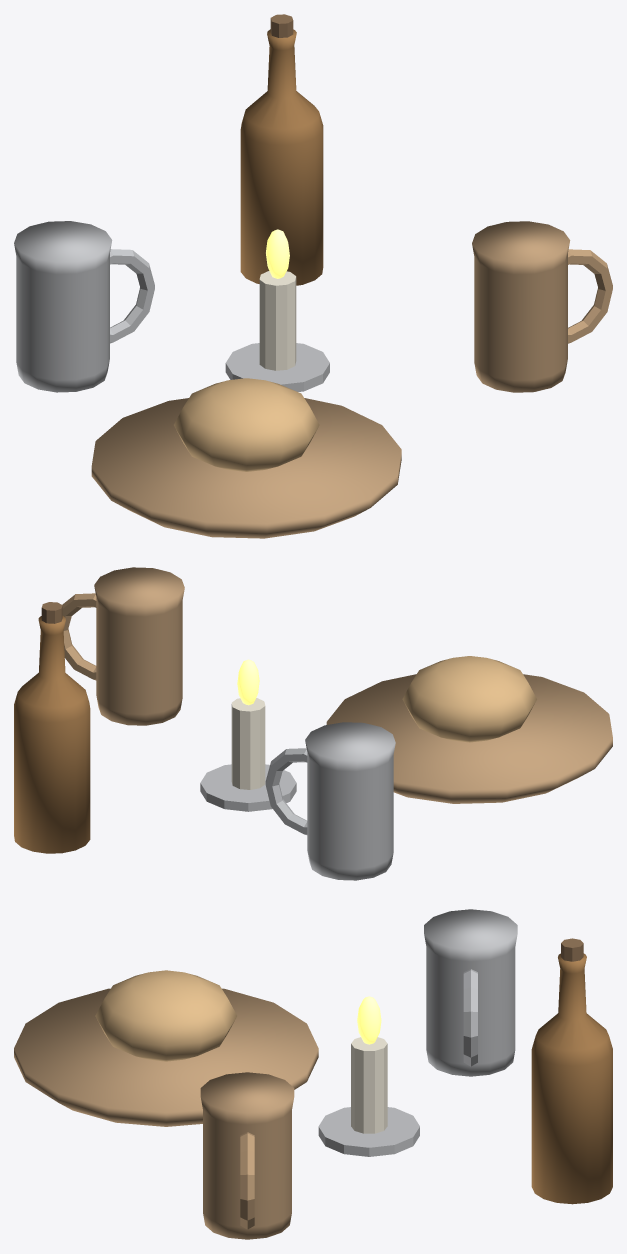
The model's file is tavern_tabletop.glb.
3 views of the same model, one above another, from view 1: azimuth 30°, elevation 25°; view 2: azimuth 150°, elevation 25°; view 3: azimuth 270°, elevation 25° (orthographic). The views are drawn at different scales.
Parts seen in each view (by area): view 1: tavern_tabletop; view 2: tavern_tabletop; view 3: tavern_tabletop.
Boxes of the visible parts, <box> form: tavern_tabletop: <box>14,14,612,538</box>; tavern_tabletop: <box>14,567,612,880</box>; tavern_tabletop: <box>14,909,612,1239</box>.
Size of the model in its own units: 0.6018 by 0.265 by 0.59.
